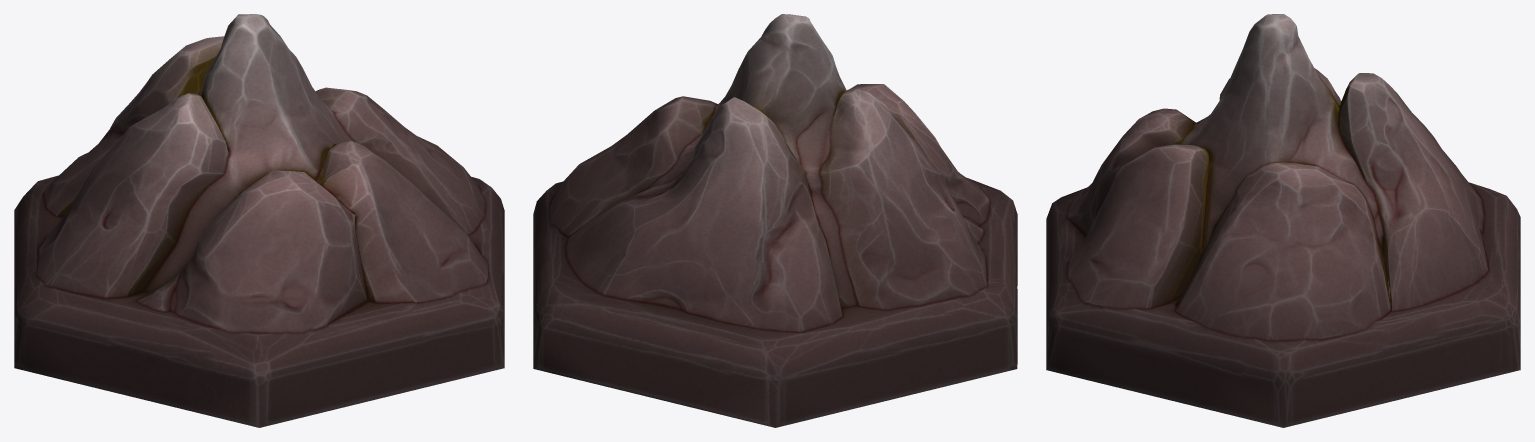
File: Mountain_tile_constructed.fbx
3 renders of one model, left to right at view 1: azimuth 30°, elevation 25°; view 2: azimuth 150°, elevation 25°; view 3: azimuth 270°, elevation 25°, orthographic. The views are drawn at different scales.
Visible parts, largest first — view 1: Mountain_tile_constructed; view 2: Mountain_tile_constructed; view 3: Mountain_tile_constructed.
Boxes of the visible parts, box(x1,y1,x2,y2) form: Mountain_tile_constructed: box(14, 14, 504, 427); Mountain_tile_constructed: box(533, 14, 1017, 427); Mountain_tile_constructed: box(1046, 14, 1520, 427).
Bounding box in the file's own units: 7.51 × 4.38 × 6.51.
